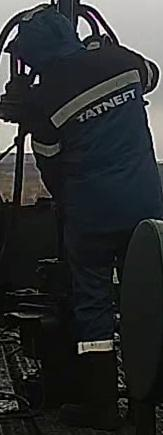vest: (29, 49, 162, 237)
